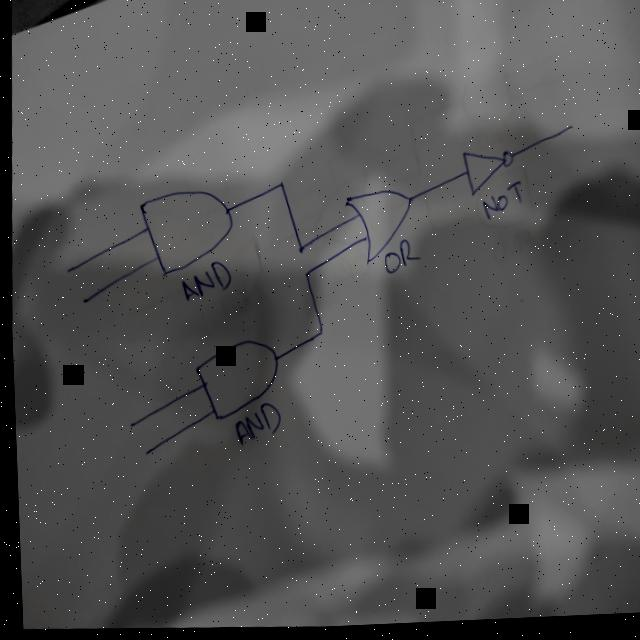junction: (307, 322, 327, 348), (269, 177, 287, 201), (296, 266, 312, 282), (292, 244, 305, 259)
terminal: (558, 124, 576, 141), (61, 265, 71, 276), (77, 296, 87, 307), (123, 420, 132, 431), (139, 448, 147, 459)
text: (228, 400, 280, 451), (177, 258, 231, 304), (477, 183, 522, 226), (379, 240, 420, 278)
